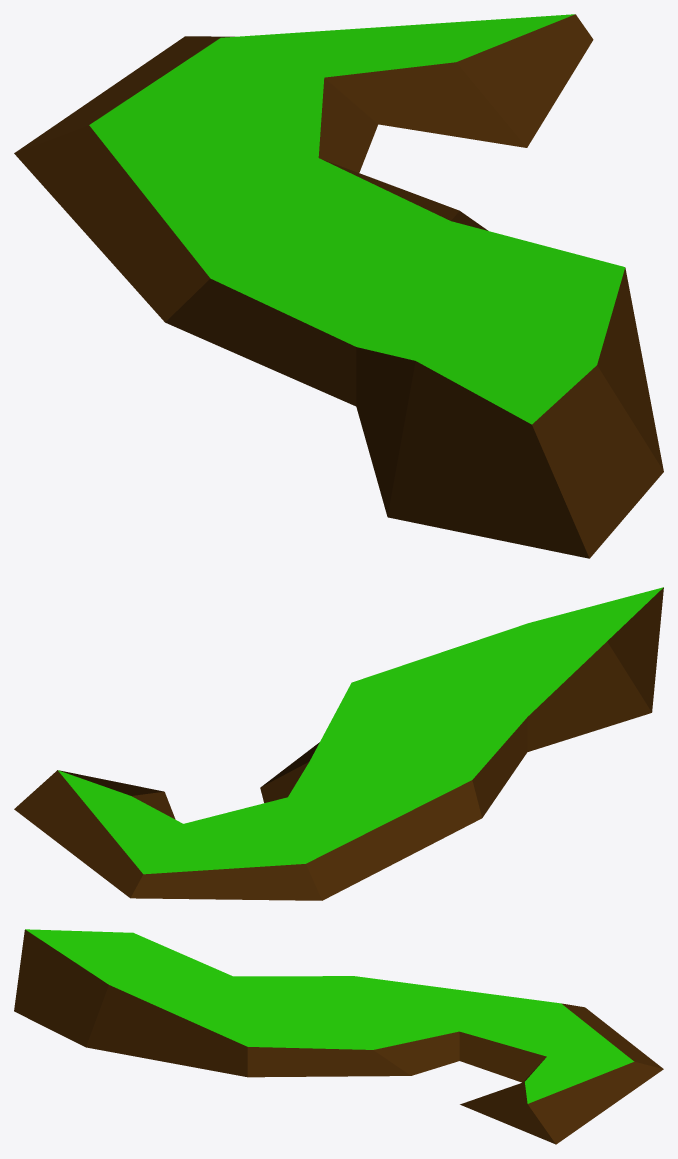
File: Island1FBX.fbx
3 renders of one model, top to bottom at view 1: azimuth 30°, elevation 25°; view 2: azimuth 150°, elevation 25°; view 3: azimuth 270°, elevation 25°, orthographic. The views are drawn at different scales.
Parts seen in each view (by area): view 1: Plane; view 2: Plane; view 3: Plane.
Part boxes in pixels (x1=…): Plane: x1=14, y1=14, x2=663, y2=558; Plane: x1=14, y1=587, x2=663, y2=900; Plane: x1=14, y1=929, x2=663, y2=1144.
Bounding box in the file's own units: 8.33 × 1.7 × 14.26.
